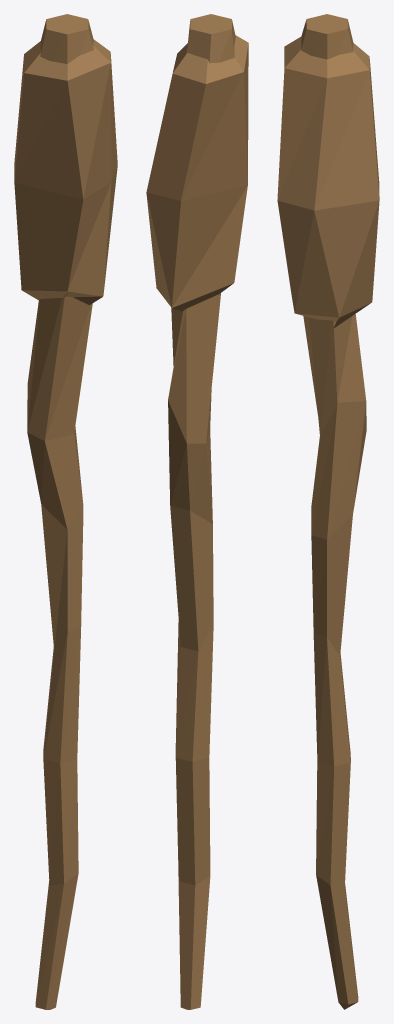
The model's file is Tourch.fbx.
3 renders of one model, left to right at view 1: azimuth 90°, elevation 25°; view 2: azimuth 150°, elevation 25°; view 3: azimuth 270°, elevation 25°, orthographic.
Visible parts, largest first — view 1: Tourch_1; view 2: Tourch_1; view 3: Tourch_1.
Boxes of the visible parts, x1=… form: Tourch_1: x1=14, y1=14, x2=117, y2=1009; Tourch_1: x1=146, y1=14, x2=248, y2=1009; Tourch_1: x1=277, y1=14, x2=379, y2=1009.
Size of the model in its own units: 145 by 1540 by 146.
